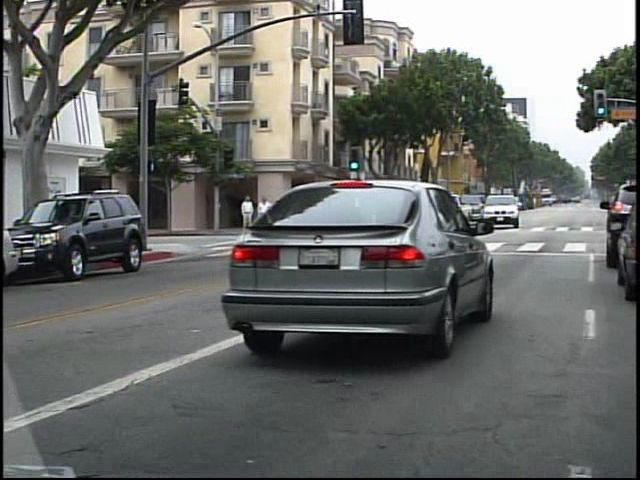person: (235, 191, 254, 239), (254, 194, 274, 235)
